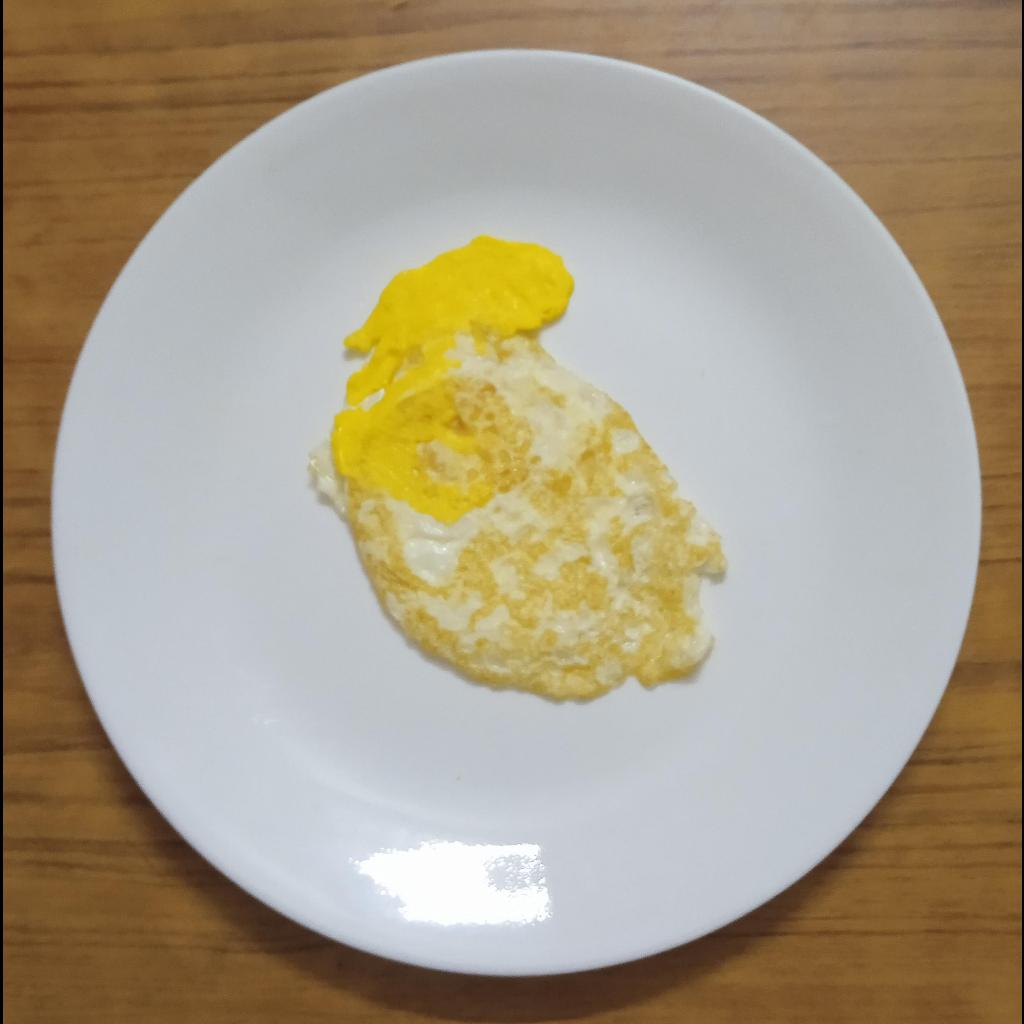egg-poached: (304, 237, 727, 702)
